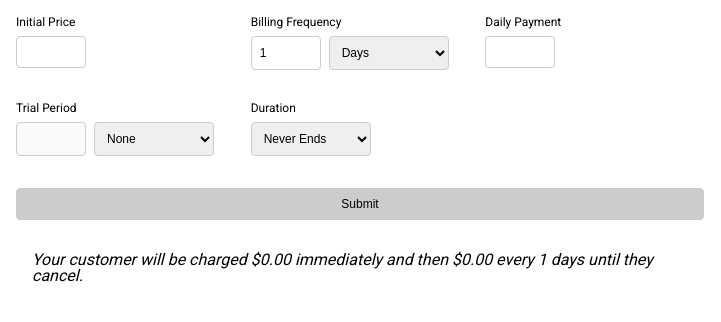
Scenario: errors › should render error message when 'Trial Period' value is empty and 'Trial Period' select is not None
Step 1. Type "10" into the number field labelled "Daily Payment" → (520, 52), box x1=485 y1=36 x2=555 y2=68
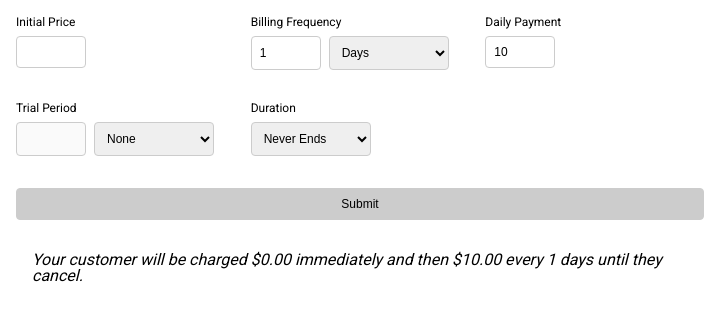
Step 2. Select "Weeks" in the dropdown with test id "trial-period-select" → (154, 139), box x1=94 y1=122 x2=214 y2=156
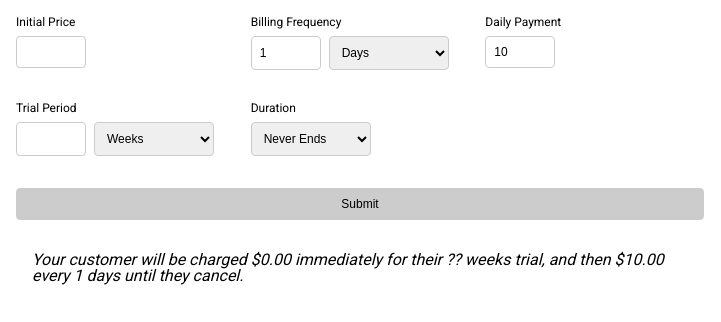
Step 3. Submit the form with test id "form"
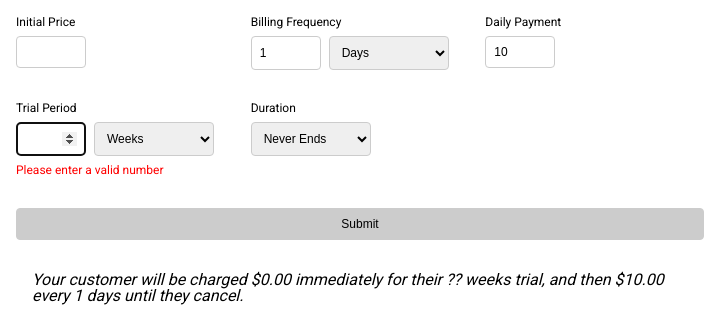
Expected: the text "Please enter a valid number" is shown, x1=16 y1=163 x2=164 y2=177
